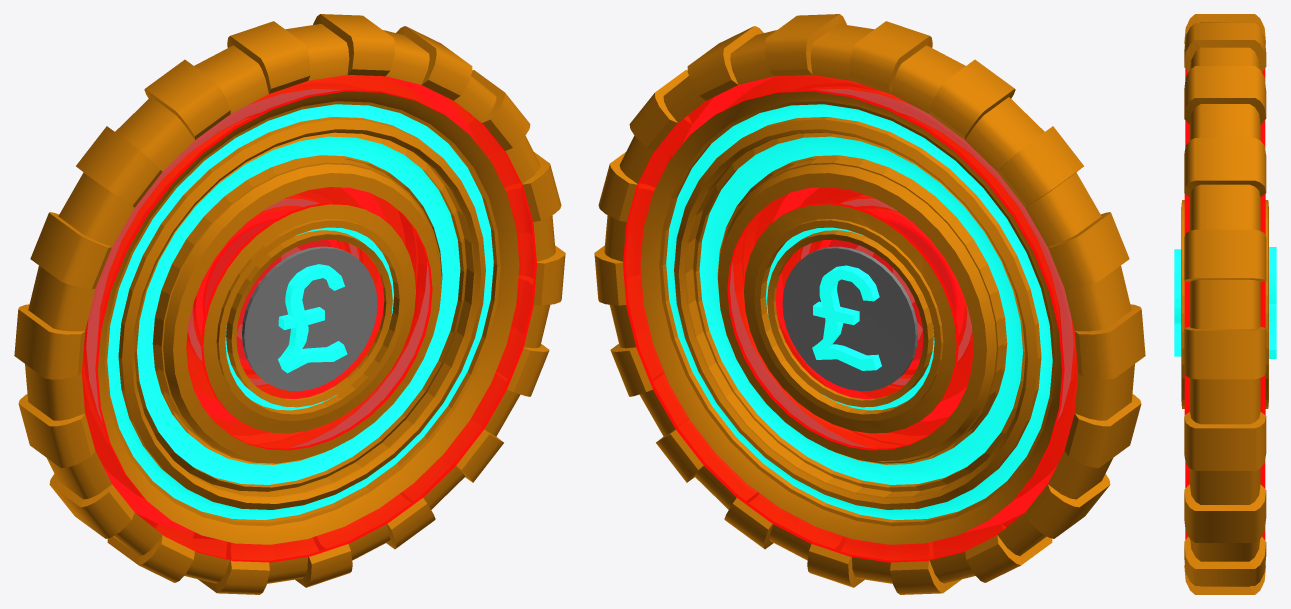
The model's file is coin.glb.
The picture shows the model from 3 angles, left to right: view 1: azimuth 30°, elevation 25°; view 2: azimuth 150°, elevation 25°; view 3: azimuth 270°, elevation 25°; orthographic projection. The views are drawn at different scales.
Visible parts, largest first — view 1: Cylinder003, Text005; view 2: Cylinder003, Text006_03 - Default_0; view 3: Cylinder003, Text006_03 - Default_0, Text005.
Boxes of the visible parts, x1,y1,x2,y2 form: Cylinder003: [14, 14, 565, 594]; Text005: [278, 264, 347, 373]; Cylinder003: [594, 14, 1145, 594]; Text006_03 - Default_0: [812, 265, 881, 370]; Cylinder003: [1181, 14, 1268, 594]; Text006_03 - Default_0: [1269, 247, 1276, 358]; Text005: [1174, 249, 1181, 356].
Size of the model in its own units: 49.27 by 49.26 by 8.63.
